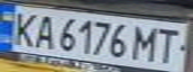1: (72, 17, 93, 54)
6: (109, 20, 133, 60), (54, 15, 78, 53)
7: (90, 19, 112, 56)
A: (30, 11, 57, 51)
K: (6, 9, 42, 48)
M: (127, 23, 163, 62)
T: (151, 25, 187, 64)
